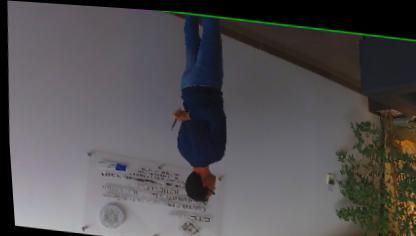knife: (166, 100, 182, 130)
